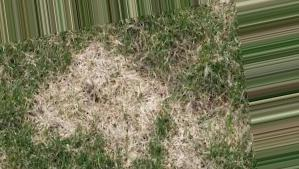patch: (99, 57, 149, 92), (51, 85, 90, 125), (105, 99, 138, 138), (148, 91, 174, 120), (73, 58, 92, 75)
